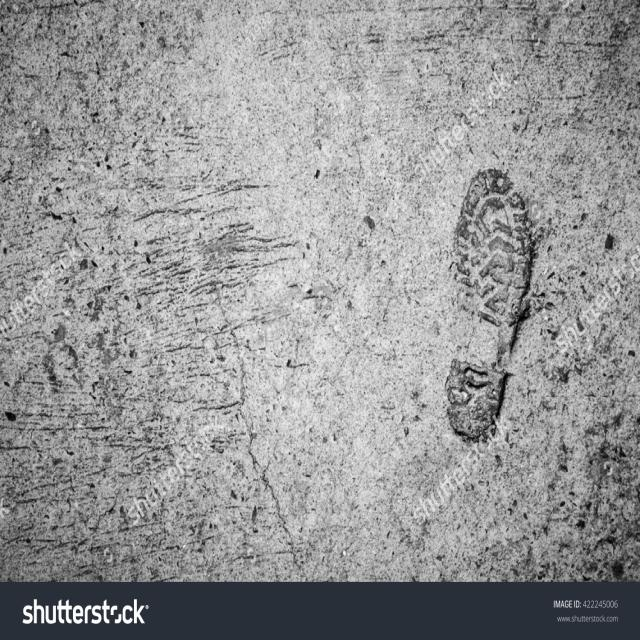human_footprint: (441, 156, 538, 470)
